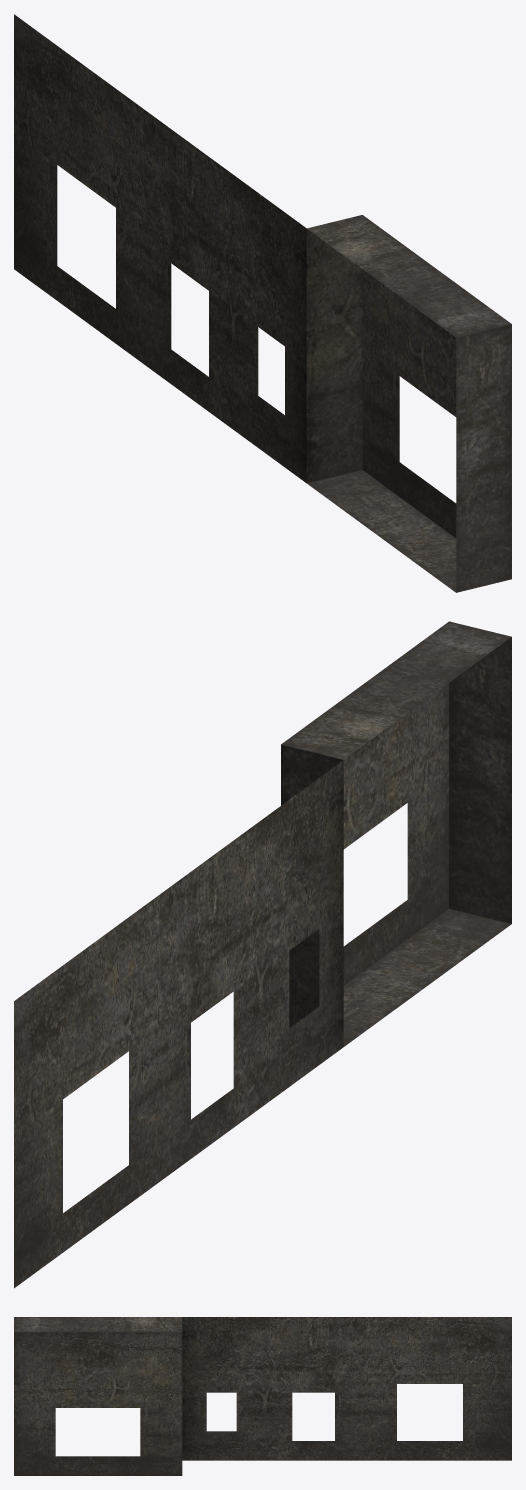
Rendered from Wall_01.FBX.
The picture shows the model from 3 angles, top to bottom: view 1: azimuth 30°, elevation 25°; view 2: azimuth 150°, elevation 25°; view 3: azimuth 270°, elevation 25°; orthographic projection. The views are drawn at different scales.
Parts seen in each view (by area): view 1: Wall_01; view 2: Wall_01; view 3: Wall_01.
Part boxes in pixels (x1=…): Wall_01: x1=14, y1=14, x2=511, y2=592; Wall_01: x1=14, y1=621, x2=511, y2=1288; Wall_01: x1=14, y1=1317, x2=511, y2=1475.
Bounding box in the file's own units: 117 × 511 × 1606.
